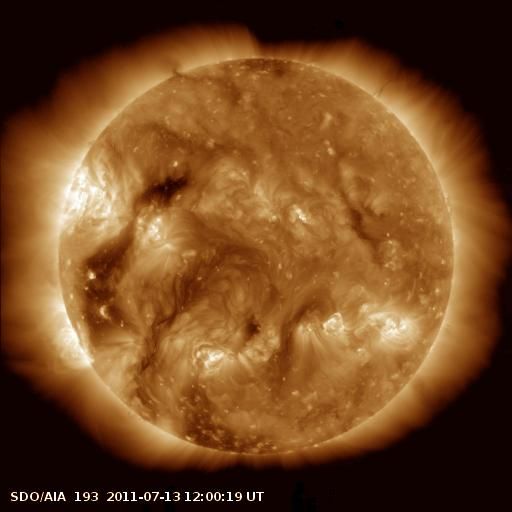coronal_hole: (78, 218, 139, 352), (129, 171, 190, 217)
